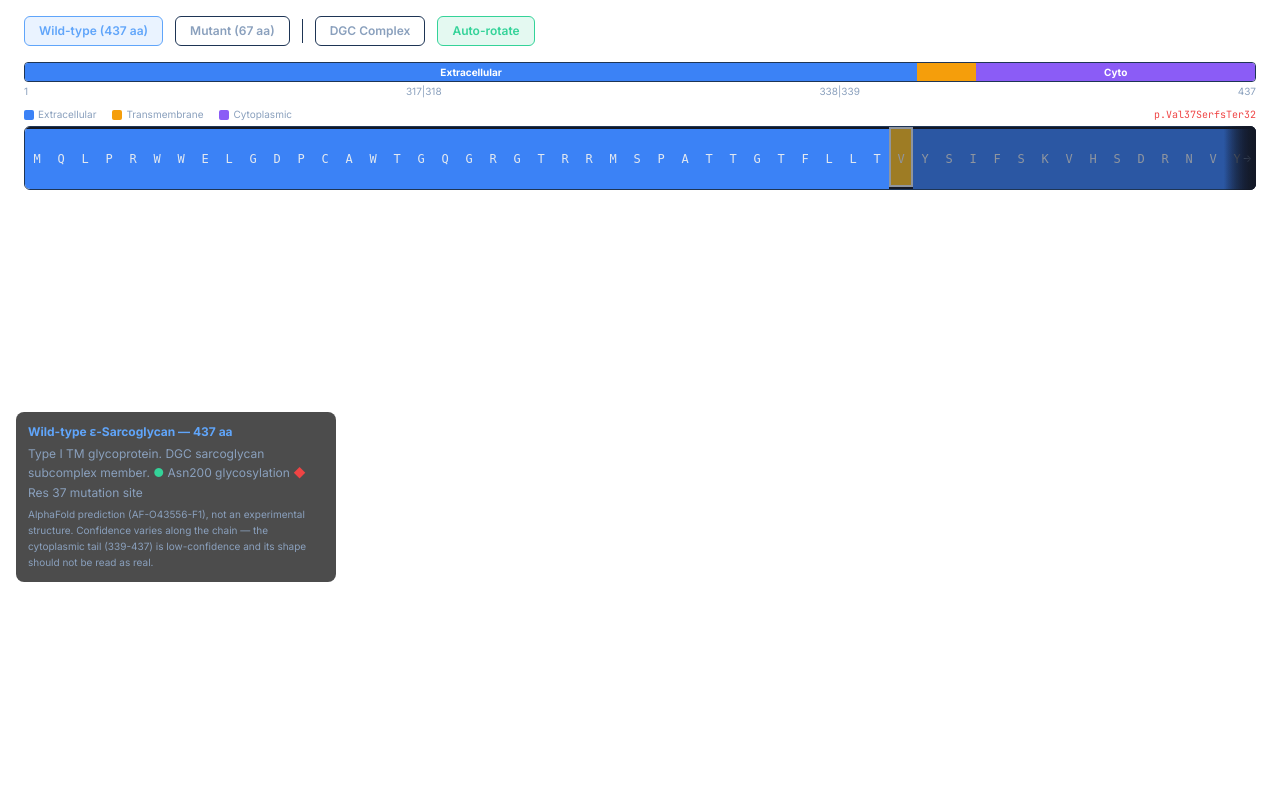
Test: ProteinStructure3D › toggles back to WT from mutant mode
Click the button "Mutant (67 aa)" at (232, 31), box [175,16,290,46]
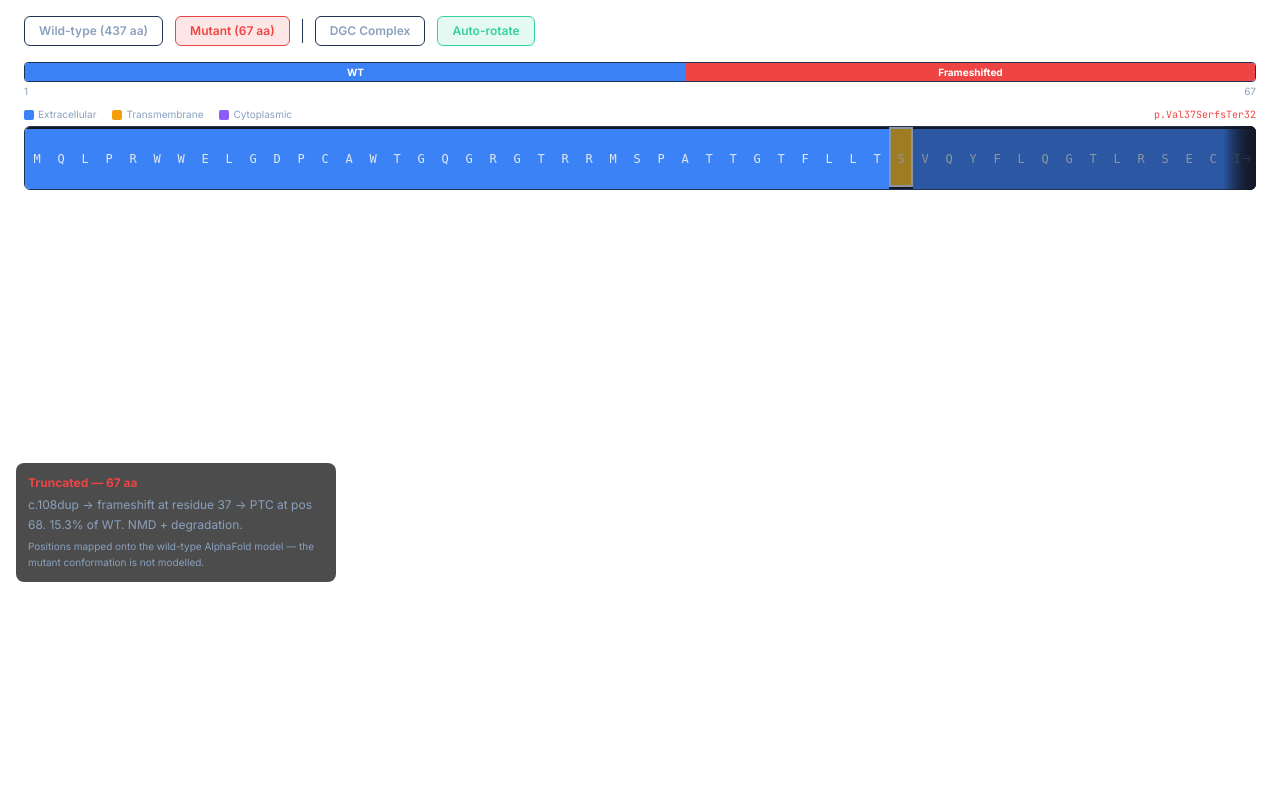
Expected: the text "Truncated — 67 aa" is shown, [28,475,138,490]
Click the button "Wild-type (437 aa)" at (94, 31), box [24,16,163,46]
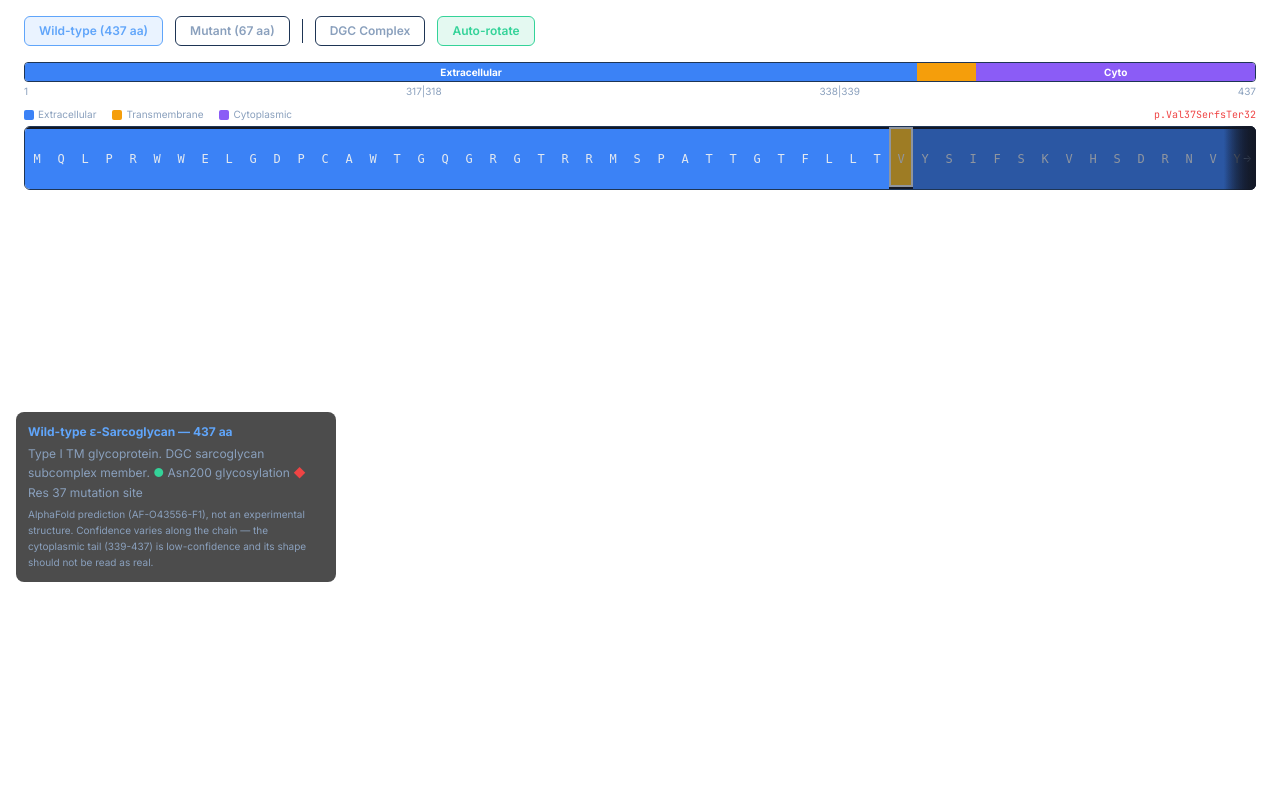
Expected: the text "Wild-type ε-Sarcoglycan — 437 aa" is shown, [28,424,233,438]
